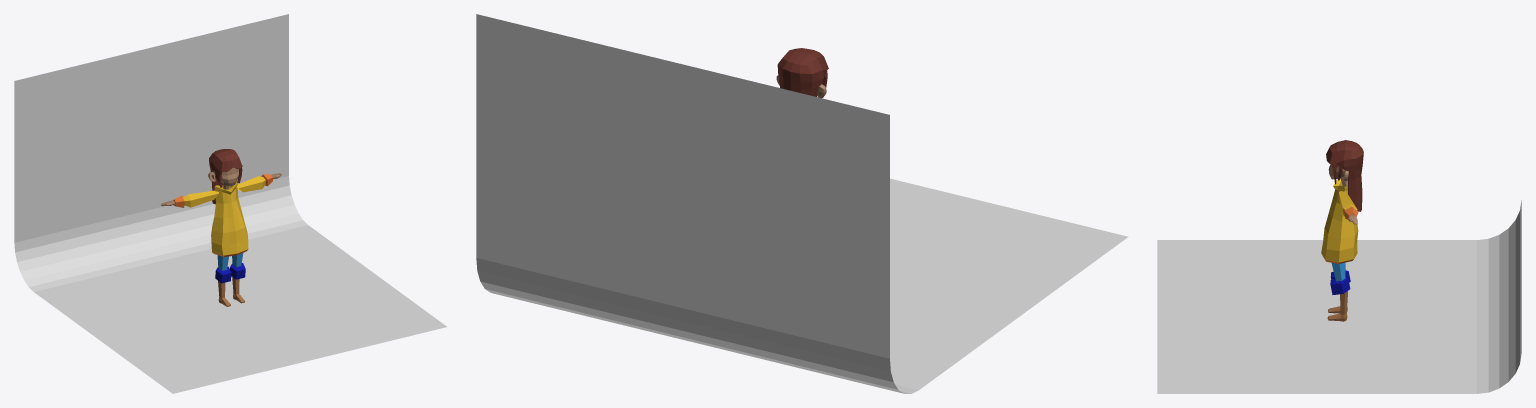
Rendered from Portfolio Clay Girl.fbx.
3 views of the same model, side by side, from view 1: azimuth 30°, elevation 25°; view 2: azimuth 150°, elevation 25°; view 3: azimuth 270°, elevation 25° (orthographic). The views are drawn at different scales.
Visible parts, largest first — view 1: Plane, Body, Legs, Arms, Head.001; view 2: Plane, Head.001; view 3: Plane, Body, Head.001, Legs, Arms.
Boxes of the visible parts, x1,y1,x2,y2 form: Plane: (14, 14, 446, 393); Body: (211, 181, 248, 256); Legs: (215, 253, 245, 306); Arms: (161, 173, 281, 207); Head.001: (209, 149, 242, 204); Plane: (476, 14, 1128, 393); Head.001: (777, 48, 828, 96); Plane: (1157, 200, 1521, 393); Body: (1321, 178, 1358, 263); Head.001: (1326, 140, 1363, 211); Legs: (1327, 262, 1350, 321); Arms: (1339, 191, 1358, 224).
Bounding box in the file's own units: 2040 × 1398 × 2040.
